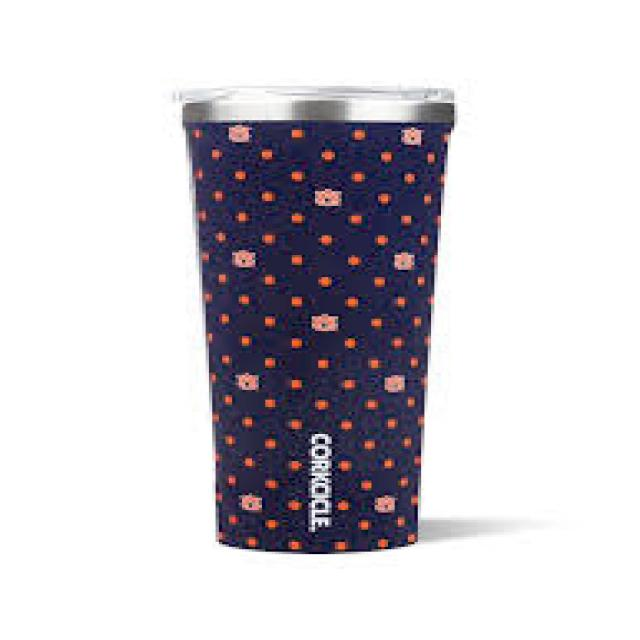bottle: (170, 84, 458, 554)
